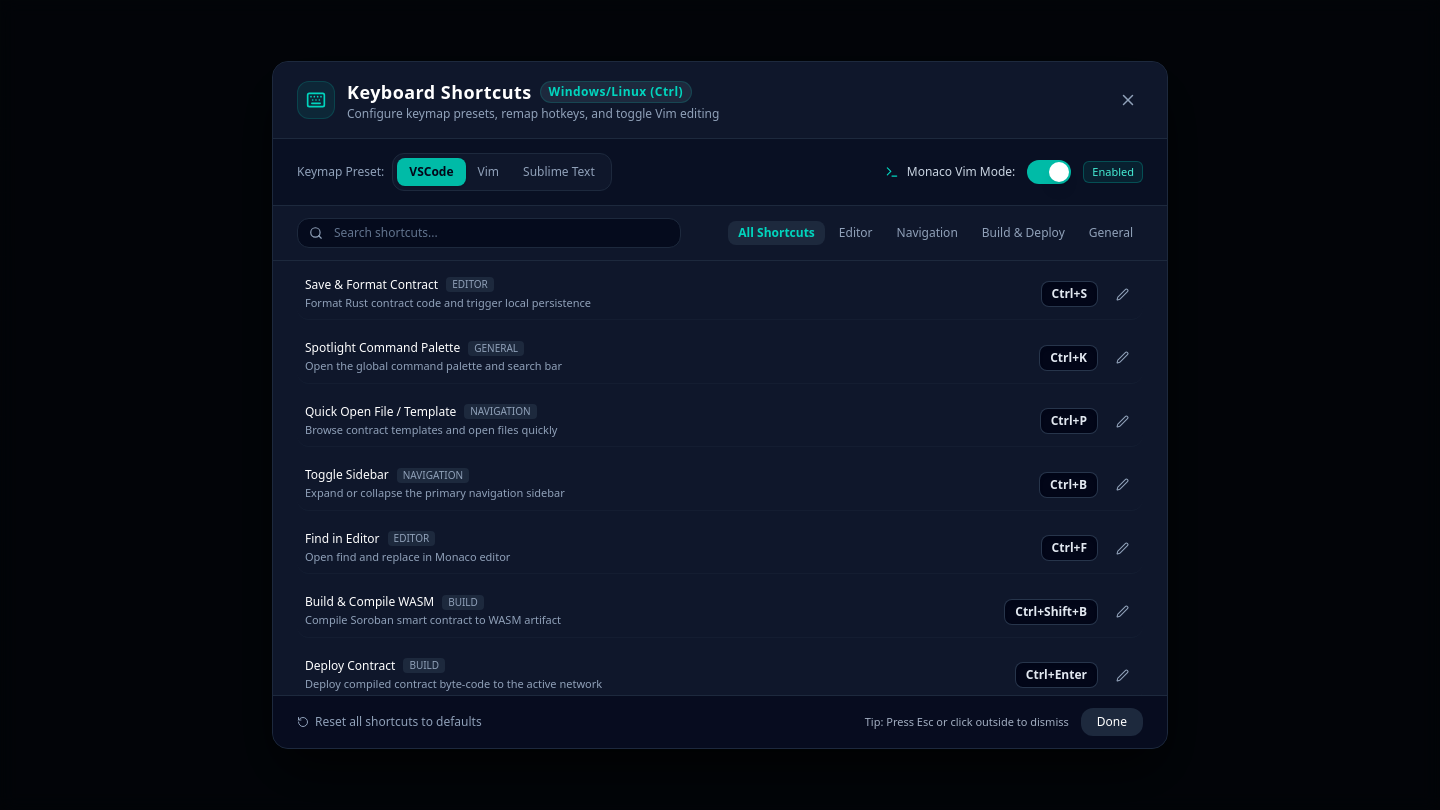
Test: KeyboardShortcutsModal (#2077) › allows interactive remapping of a hotkey and shows customizer status
The width and height of the screenshot is (1440, 810).
Click the button named "Remap Save & Format Contract": x=1122, y=294 [1110,282,1135,306]
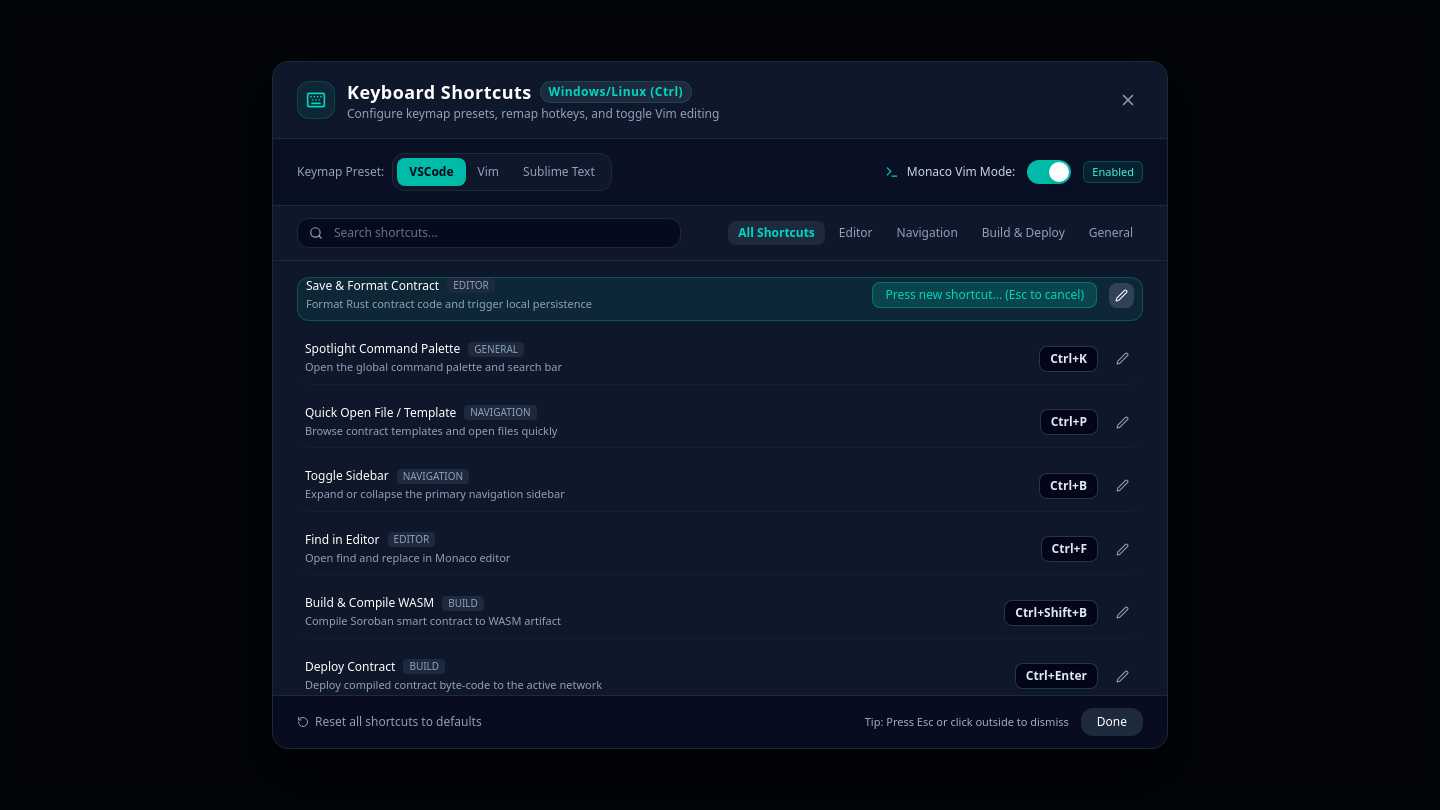
Now the text "Press new shortcut... (Esc to cancel)" is shown, box [872,282,1097,308]
User presses Ctrl+Alt+S
Press s
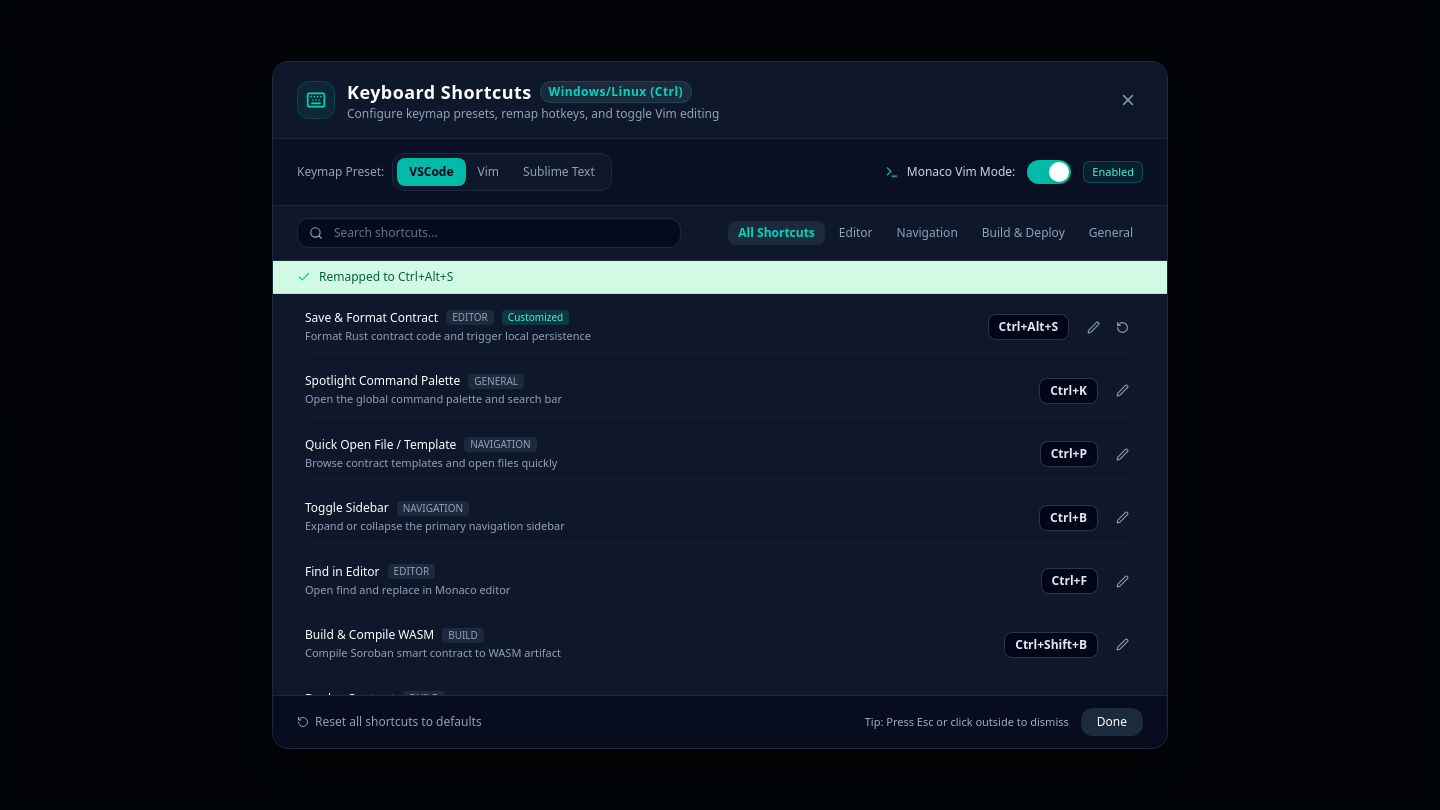
Now the text "Customized" is shown, box [502,310,569,325]
Now the text "Ctrl+Alt+S" is shown, box [988,314,1069,340]
Now the text "Remapped to Ctrl+Alt+S" is shown, box [319,269,453,285]
Click the button named "Reset Save & Format Contract to default": x=1122, y=327 [1110,314,1135,340]
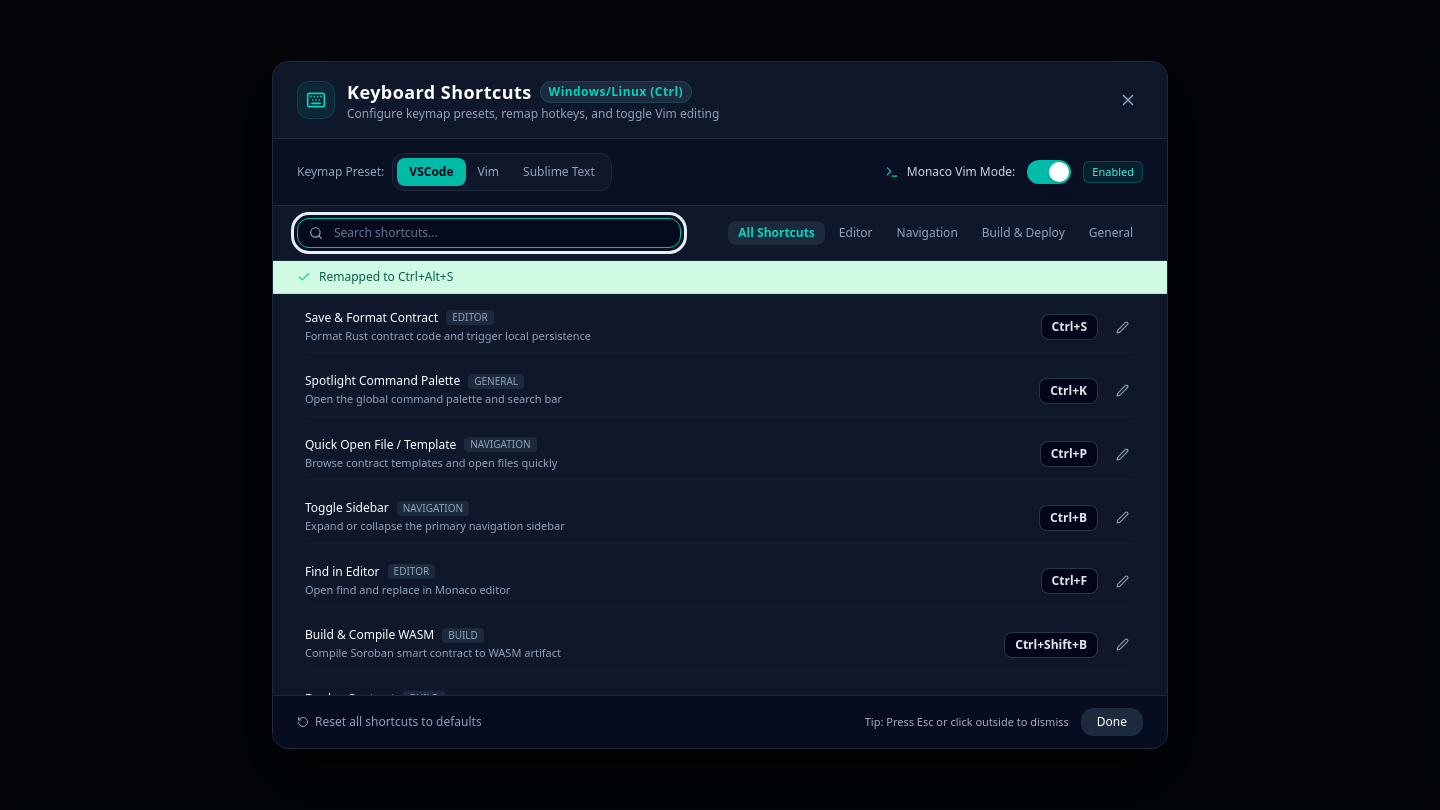
Now the text "Customized" is gone
Now the text "Ctrl+S" is shown, box [1041,314,1098,340]
